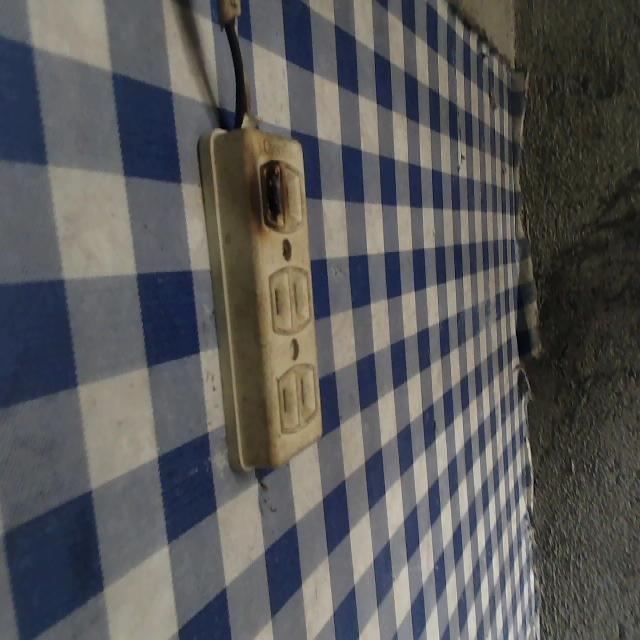-: (244, 141, 296, 239)
